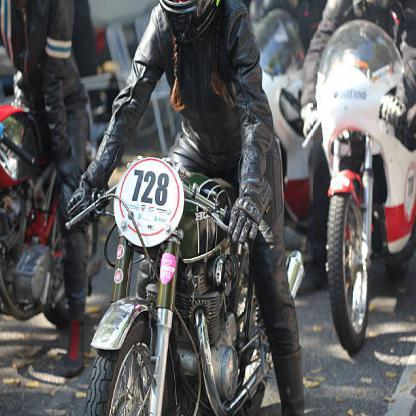Motorcycle: (70, 158, 277, 415), (299, 43, 416, 353)
